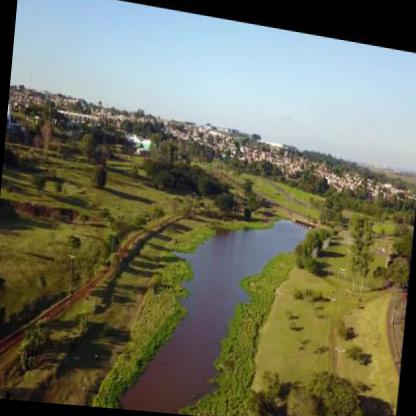agua: (167, 223, 252, 412)
